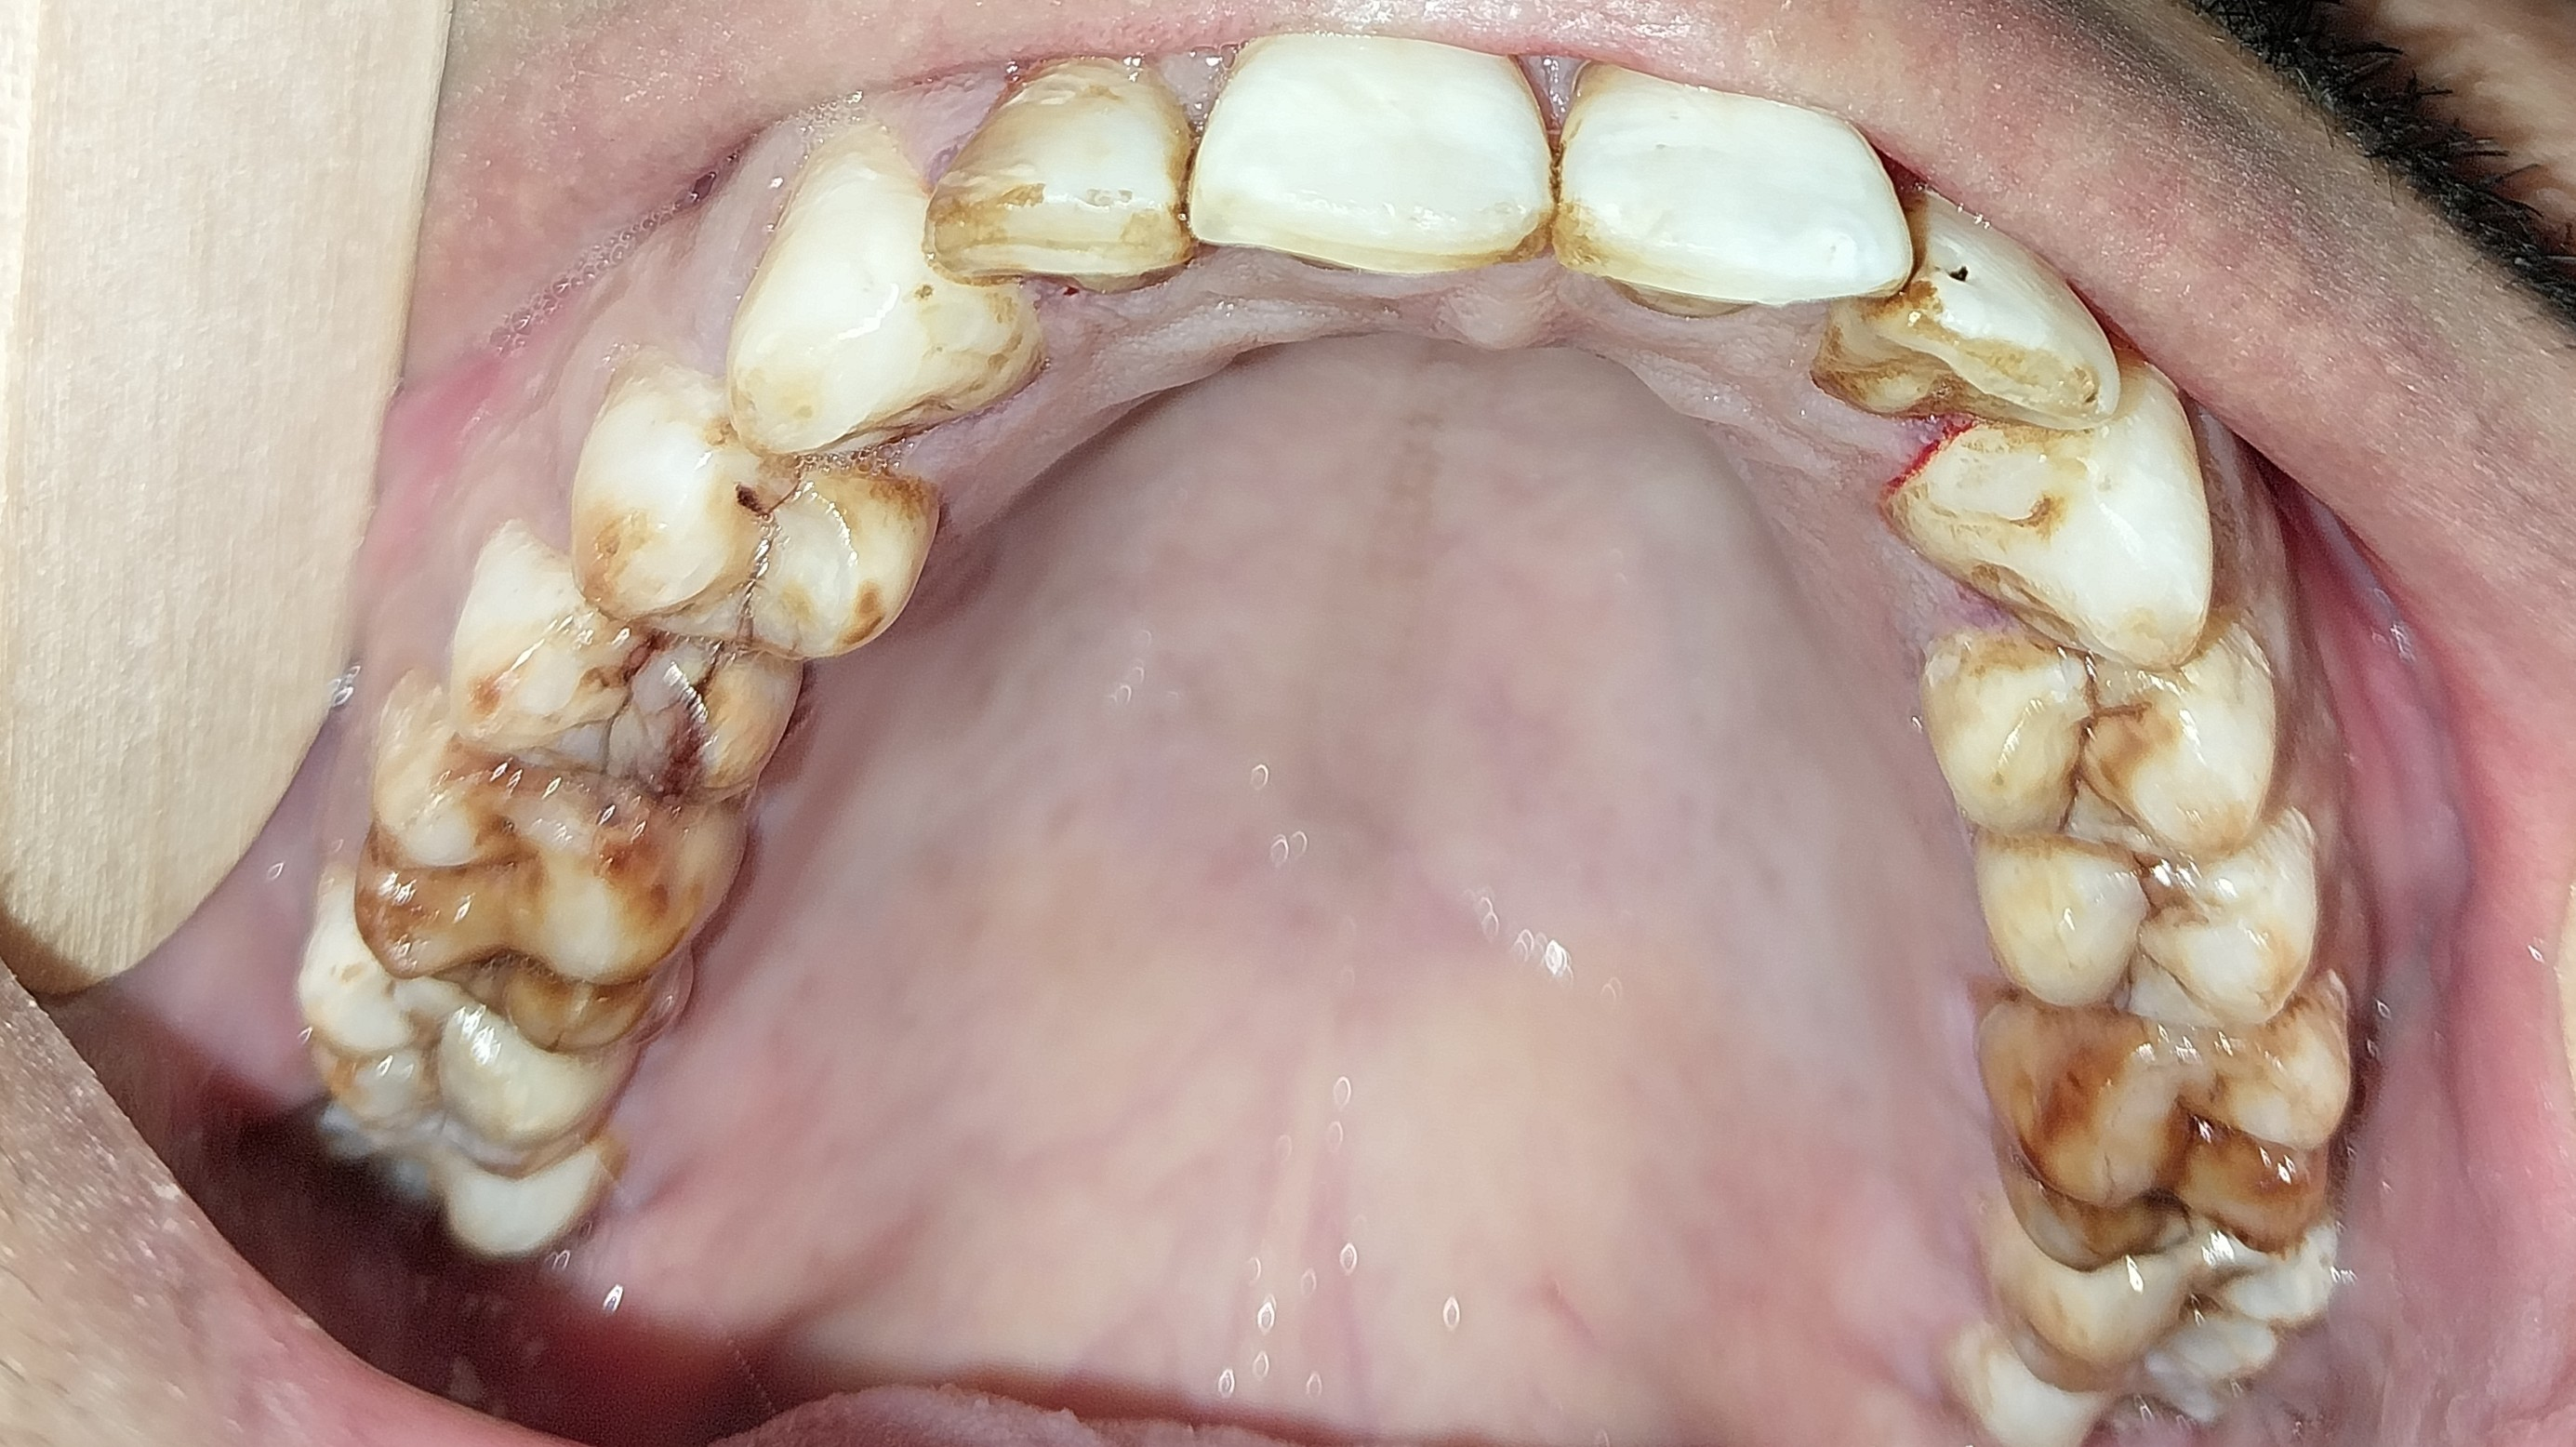D: (574, 367, 940, 674), (443, 523, 803, 806)
